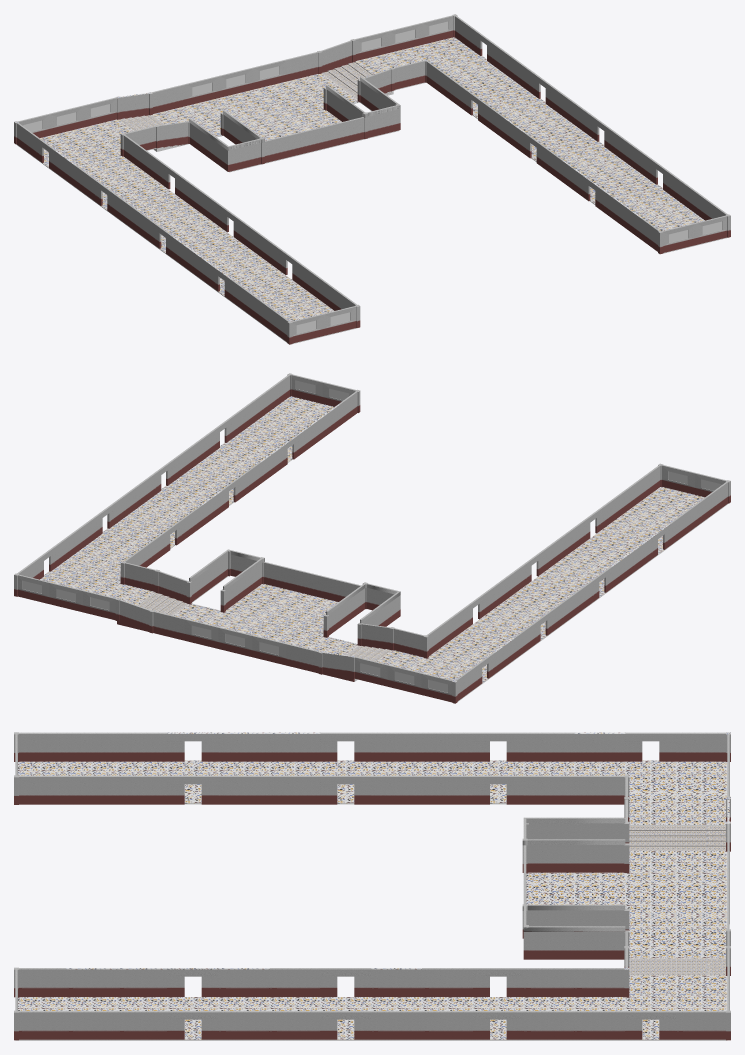
The model's file is 2ndFloor_hall.fbx.
3 views of the same model, one above another, from view 1: azimuth 30°, elevation 25°; view 2: azimuth 150°, elevation 25°; view 3: azimuth 270°, elevation 25° (orthographic). The views are drawn at different scales.
Visible parts, largest first — view 1: 2ndFloor; view 2: 2ndFloor; view 3: 2ndFloor.
Part boxes in pixels (x1,y1,x2,y2): 2ndFloor: [14, 14, 730, 344]; 2ndFloor: [14, 373, 730, 703]; 2ndFloor: [14, 732, 730, 1040].
Size of the model in its own units: 13051 by 720 by 14100.
